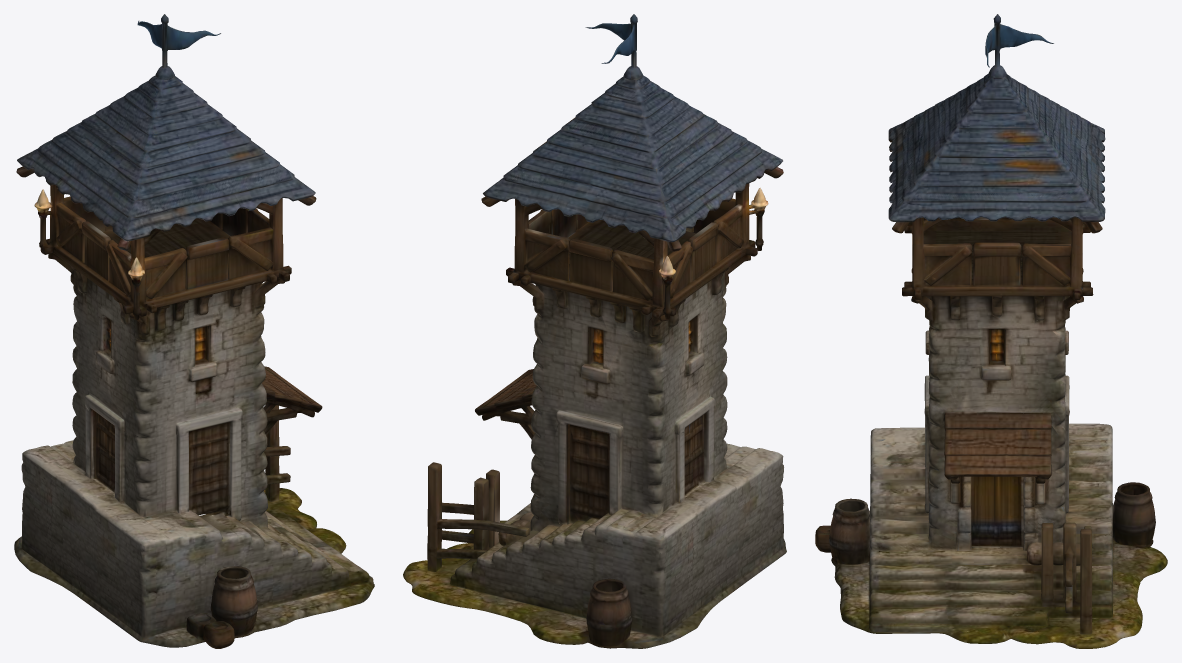
The model's file is TorreFlecha.glb.
3 views of the same model, side by side, from view 1: azimuth 30°, elevation 25°; view 2: azimuth 150°, elevation 25°; view 3: azimuth 270°, elevation 25° (orthographic). The views are drawn at different scales.
Parts seen in each view (by area): view 1: material; view 2: material; view 3: material.
Boxes of the visible parts, bbox=[...] form: material: bbox=[14, 14, 374, 648]; material: bbox=[403, 14, 786, 648]; material: bbox=[815, 14, 1167, 648].
Size of the model in its own units: 0.5212 by 1.01 by 0.585.
1 material, 1 textured.
